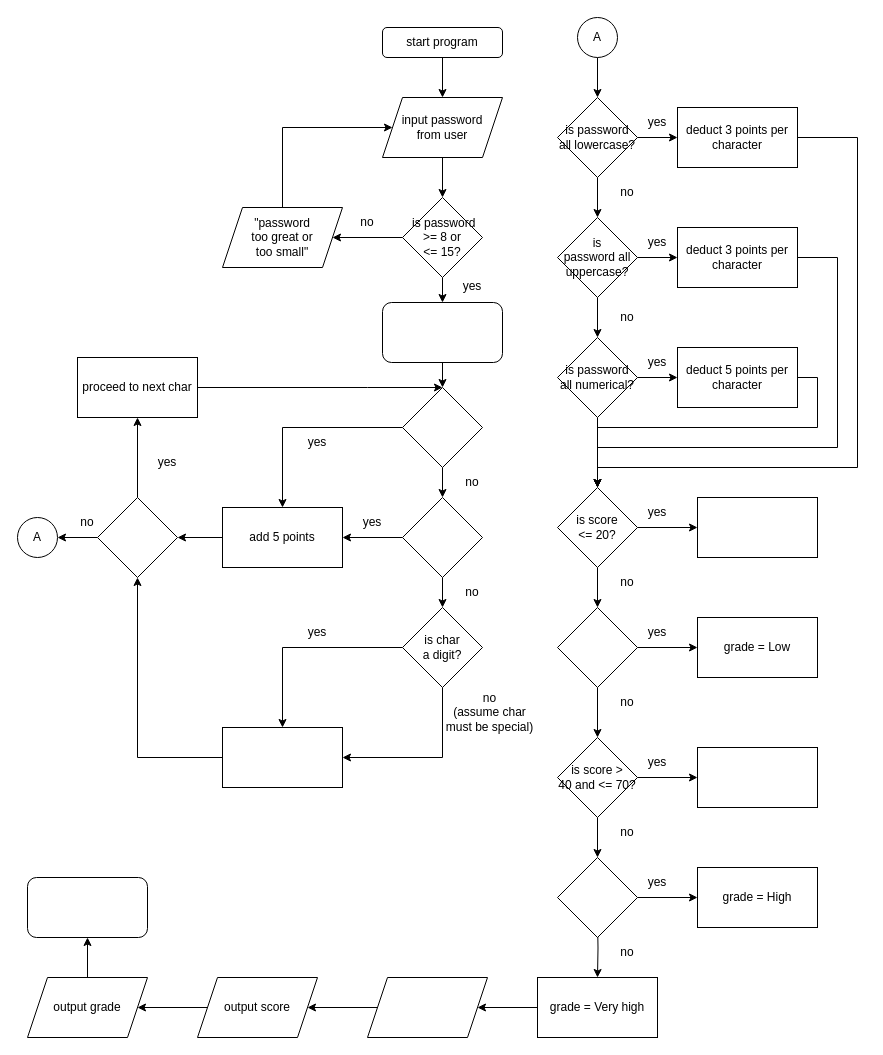
The diagram is 883 pixels wide and 1055 high, and some of its shapes have lost their labels. Each missing label, with the centre of its shape:
add 10 points: (282,757)
break the password down to each individual character: (442,332)
end program: (87,907)
grade = Medium: (757,777)
grade = Very low: (757,527)
is char lowercase?: (442,427)
is char uppercase?: (442,537)
is score > 20 and <= 40?: (597,647)
is score > 70 and <= 80?: (597,897)
next char exists?: (137,537)
output password: (427,1007)
